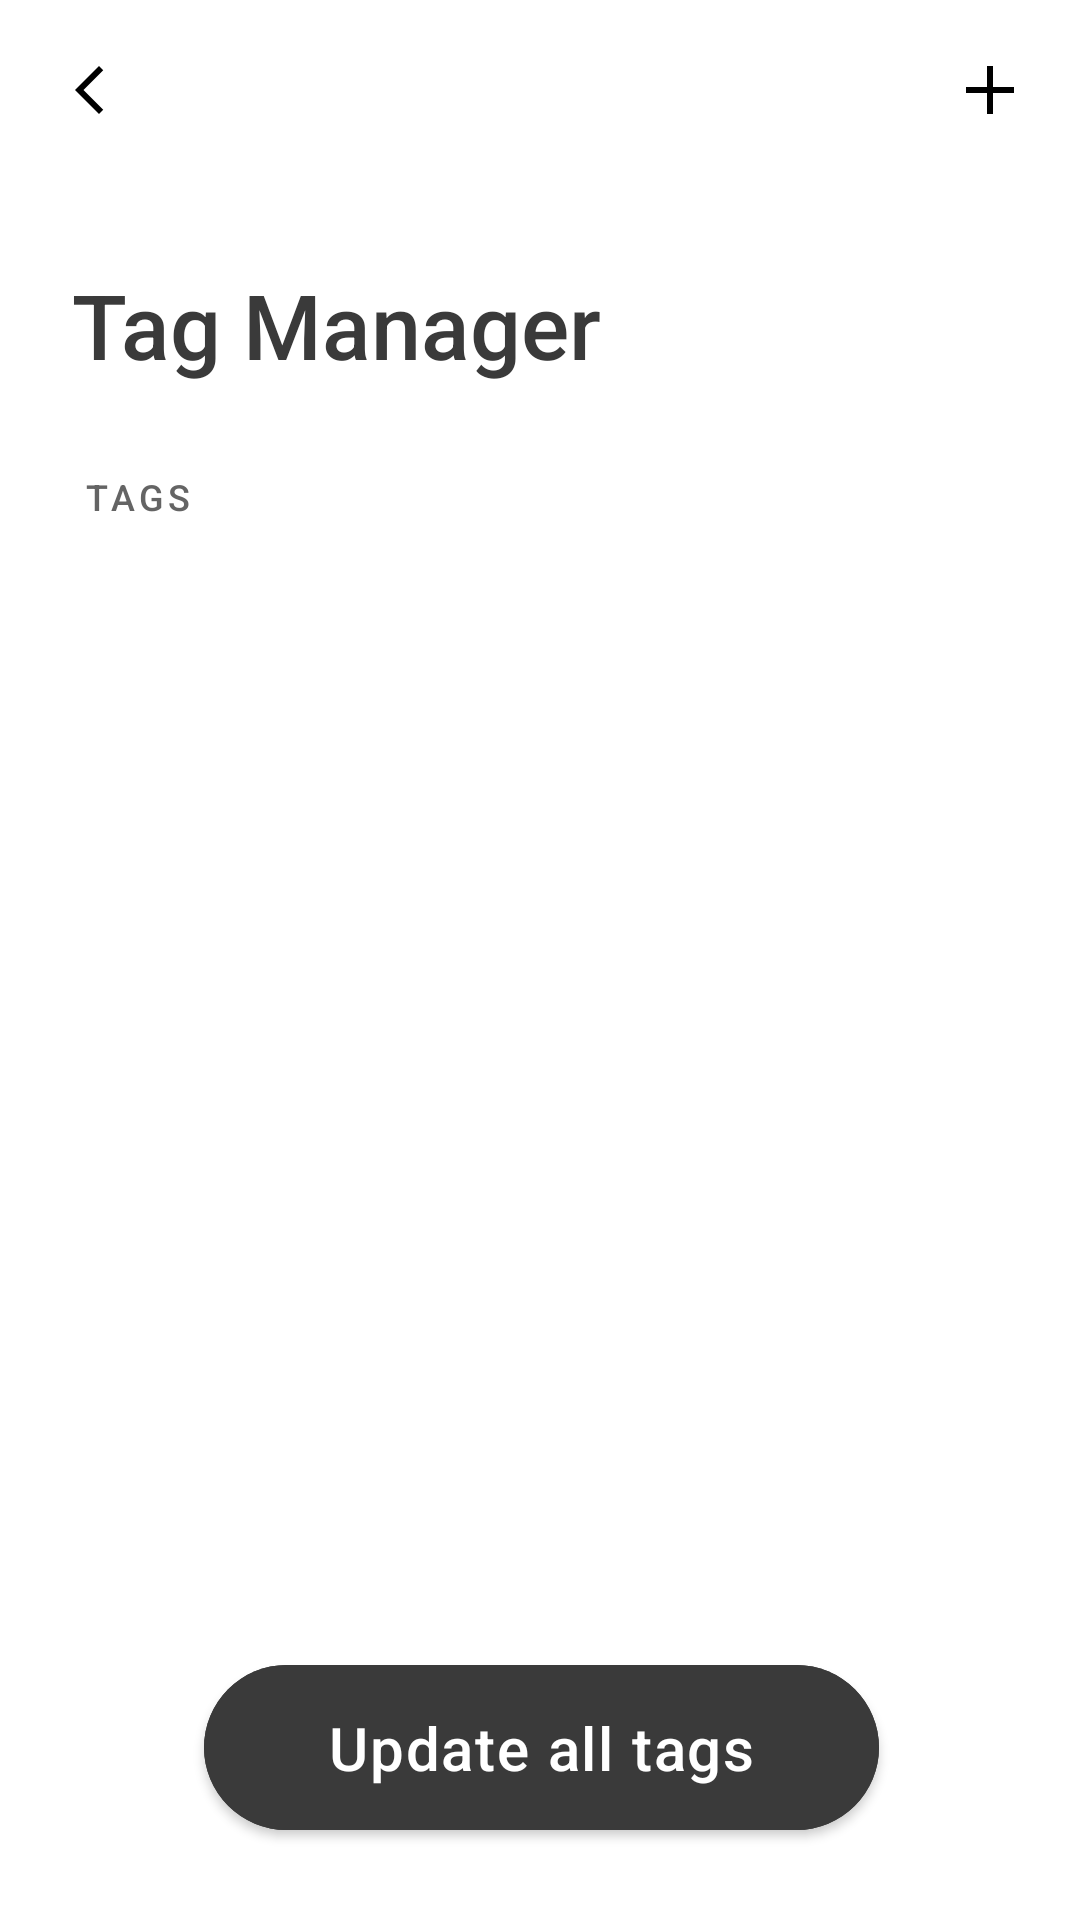

Icons on this 1080*1920 Android screen, each with the point to tap as point (x, y):
add: point (990, 90)
